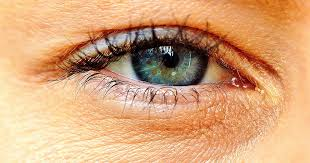pupil: (132, 42, 209, 86)
